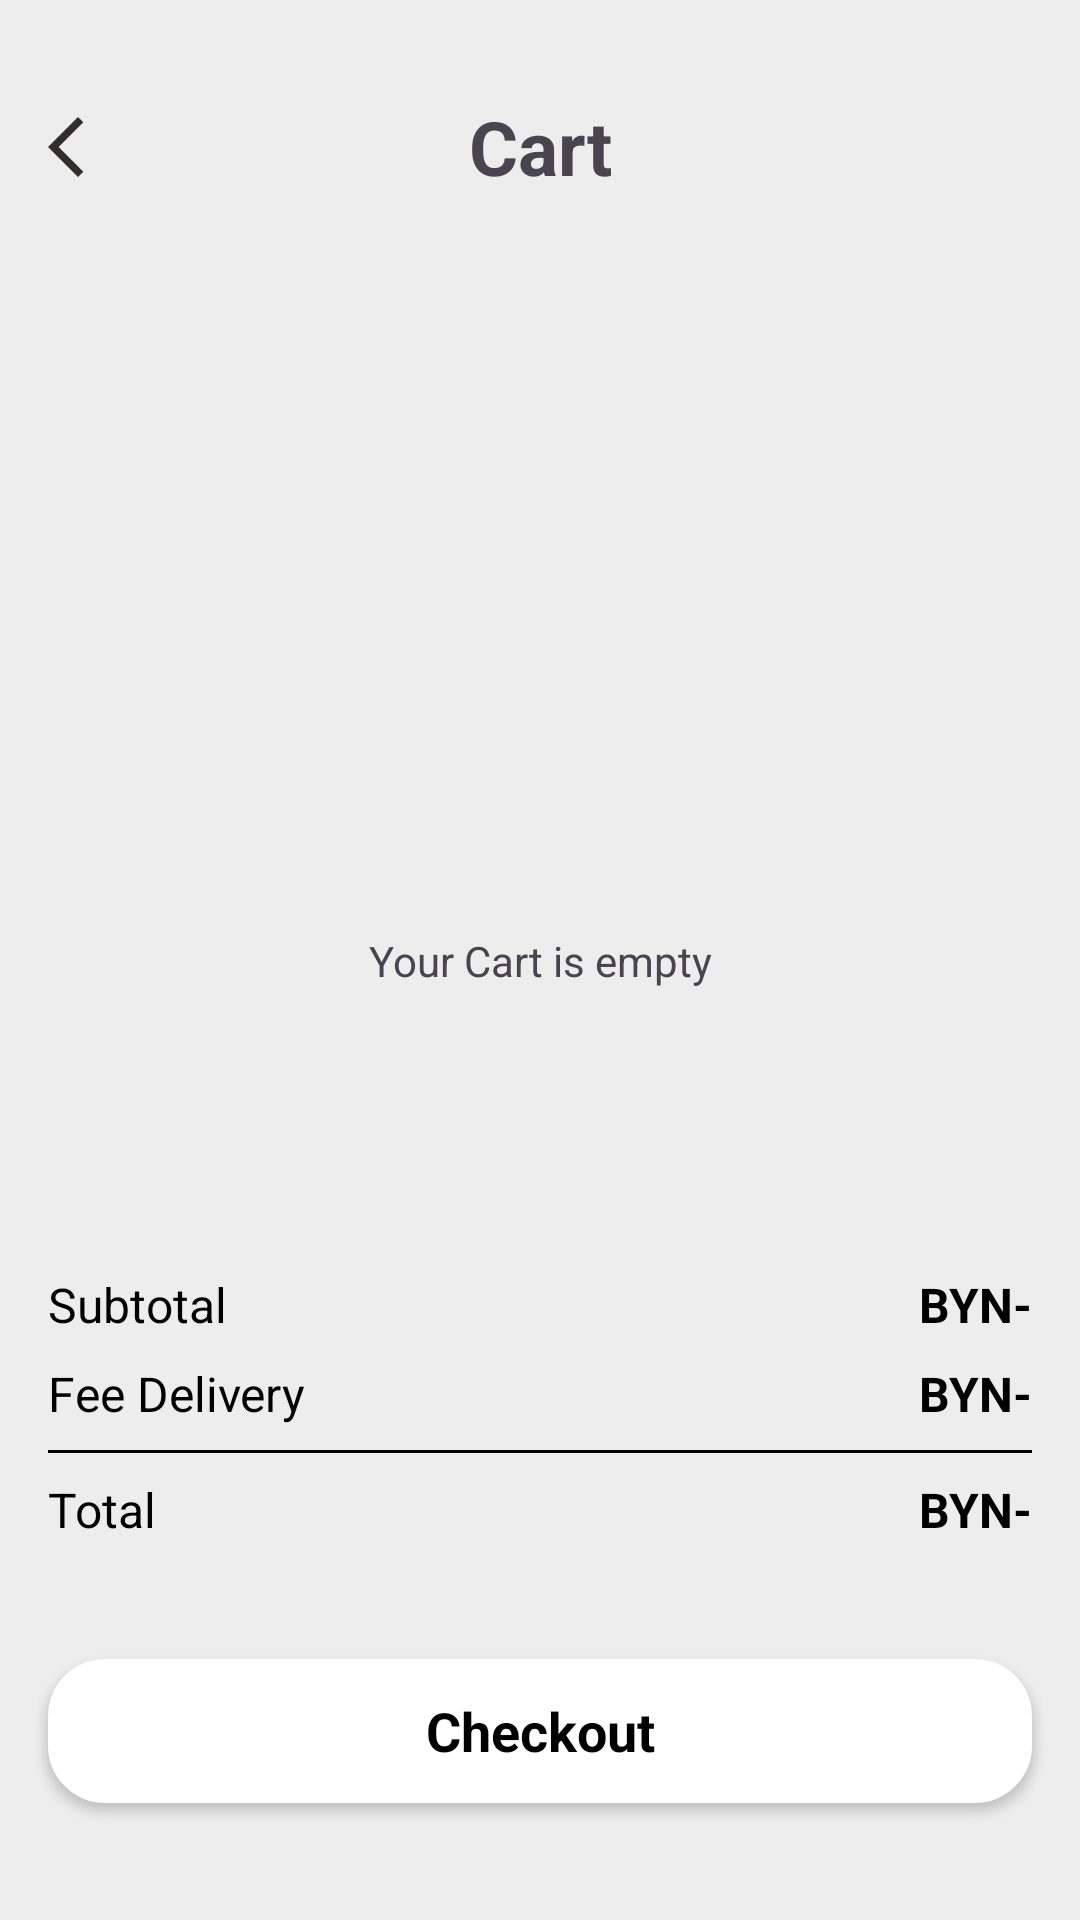

Named icons in this screenshot (1080 x 1920) and their centers, (x,y):
back arrow: (65,147)
